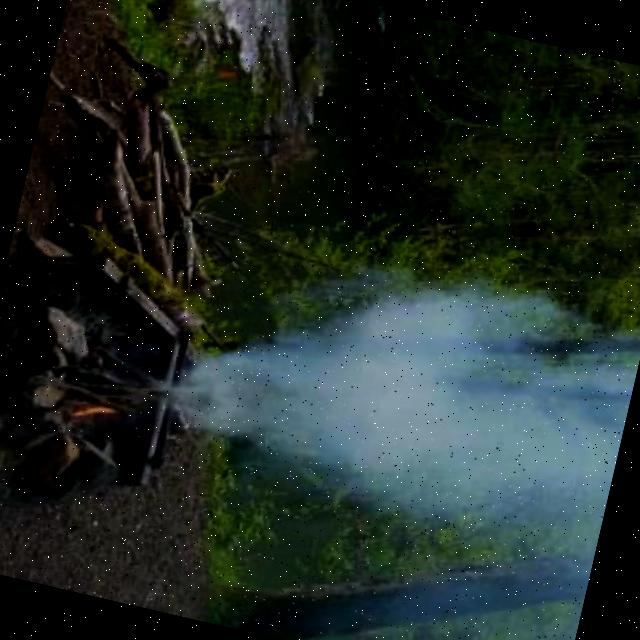fire: (58, 385, 131, 435)
